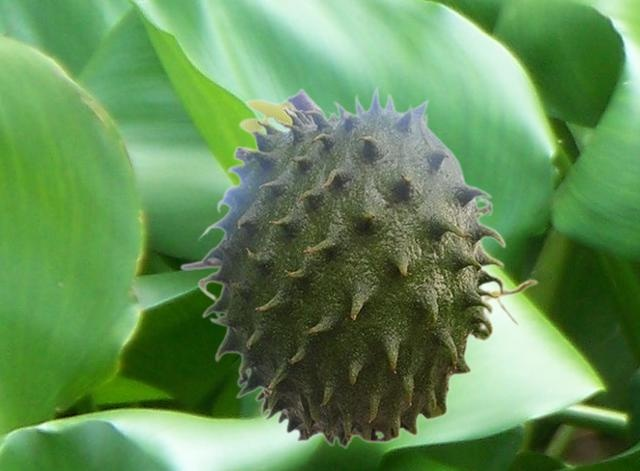guyabano: (179, 84, 538, 449)
